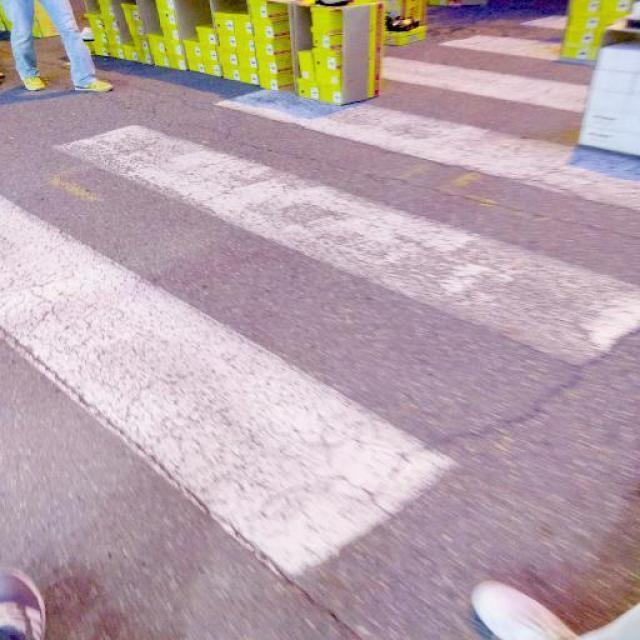crosswalk: (0, 91, 640, 586)
